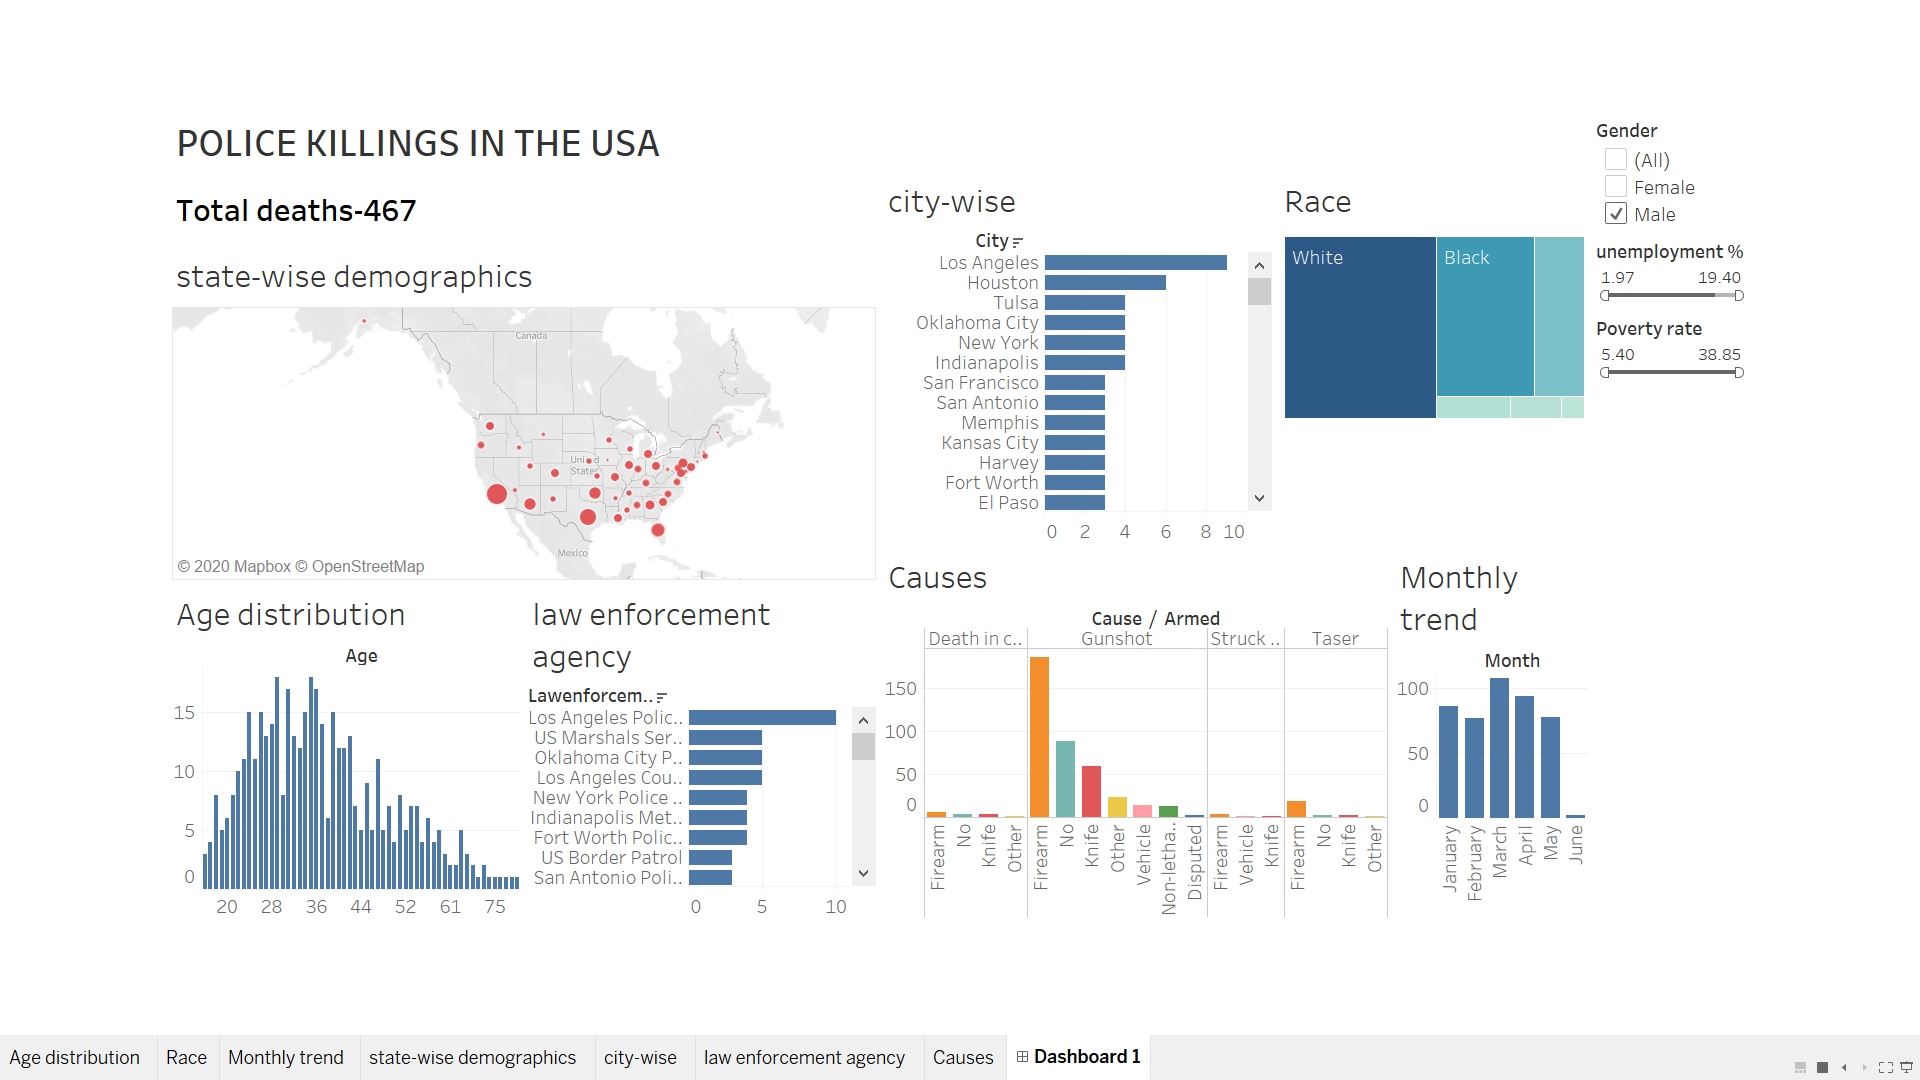

The dashboard page shown, as its layout file describes it:
{"tool":"tableau","page":{"name":"Dashboard 1","canvas":[1600,825],"ordinal":0},"visuals":[{"type":"worksheet","box":[0,0,1600,825]},{"type":"worksheet","param":"horz","box":[8,8,1584,809]},{"type":"worksheet","param":"vert","box":[8,8,1424,809]},{"type":"worksheet","box":[8,8,1424,58]},{"type":"worksheet","param":"vert","box":[1432,8,160,809]},{"type":"worksheet","title":"Age distribution","mark":"Automatic","rows":["police1.csv_8AB6018096FD485AA3396B35C24C2C2E"],"cols":["age"],"param":"[federated.0briuy808bmupc111lmp91lu067g].[none:gender:nk]","box":[1432,8,160,121]},{"type":"worksheet","box":[8,66,1424,751]},{"type":"worksheet","box":[8,66,712,75]},{"type":"worksheet","title":"city-wise ","mark":"Automatic","rows":["city"],"cols":["police1.csv_8AB6018096FD485AA3396B35C24C2C2E"],"box":[720,66,396,376]},{"type":"worksheet","title":"Race","mark":"Automatic","box":[1116,66,316,376]},{"type":"worksheet","title":"state-wise demographics","mark":"Automatic","rows":["latitude"],"cols":["longitude"],"param":"[federated.0briuy808bmupc111lmp91lu067g].[med:Calculation_787004053081583616:qk]","box":[1432,129,160,77]},{"type":"worksheet","title":"state-wise demographics","mark":"Automatic","rows":["latitude"],"cols":["longitude"],"box":[8,141,712,338]},{"type":"worksheet","title":"state-wise demographics","mark":"Automatic","rows":["latitude"],"cols":["longitude"],"param":"[federated.0briuy808bmupc111lmp91lu067g].[med:pov:qk]","box":[1432,206,160,77]},{"type":"worksheet","title":"Causes","mark":"Automatic","rows":["police1.csv_8AB6018096FD485AA3396B35C24C2C2E"],"cols":["cause","armed"],"box":[720,442,512,375]},{"type":"worksheet","title":"Monthly trend","mark":"Automatic","rows":["police1.csv_8AB6018096FD485AA3396B35C24C2C2E"],"cols":["month"],"box":[1232,442,200,375]},{"type":"worksheet","title":"Age distribution","mark":"Automatic","rows":["police1.csv_8AB6018096FD485AA3396B35C24C2C2E"],"cols":["age"],"box":[8,479,356,338]},{"type":"worksheet","title":"law enforcement agency","mark":"Automatic","rows":["lawenforcementagency"],"cols":["police1.csv_8AB6018096FD485AA3396B35C24C2C2E"],"box":[364,479,356,338]}]}

Visuals, with their boxes on the page's 1600x825 design canvas (x1, y1, x2, y2). These are canvas units, not pixel positions in the 1920x1080 screenshot, which may show the page scaled, cropped or inside an application window:
worksheet: {"left": 0, "top": 0, "right": 1600, "bottom": 825}
worksheet: {"left": 8, "top": 8, "right": 1592, "bottom": 817}
worksheet: {"left": 8, "top": 8, "right": 1432, "bottom": 817}
worksheet: {"left": 8, "top": 8, "right": 1432, "bottom": 66}
worksheet: {"left": 1432, "top": 8, "right": 1592, "bottom": 817}
"Age distribution" worksheet: {"left": 1432, "top": 8, "right": 1592, "bottom": 129}
worksheet: {"left": 8, "top": 66, "right": 1432, "bottom": 817}
worksheet: {"left": 8, "top": 66, "right": 720, "bottom": 141}
"city-wise " worksheet: {"left": 720, "top": 66, "right": 1116, "bottom": 442}
"Race" worksheet: {"left": 1116, "top": 66, "right": 1432, "bottom": 442}
"state-wise demographics" worksheet: {"left": 1432, "top": 129, "right": 1592, "bottom": 206}
"state-wise demographics" worksheet: {"left": 8, "top": 141, "right": 720, "bottom": 479}
"state-wise demographics" worksheet: {"left": 1432, "top": 206, "right": 1592, "bottom": 283}
"Causes" worksheet: {"left": 720, "top": 442, "right": 1232, "bottom": 817}
"Monthly trend" worksheet: {"left": 1232, "top": 442, "right": 1432, "bottom": 817}
"Age distribution" worksheet: {"left": 8, "top": 479, "right": 364, "bottom": 817}
"law enforcement agency" worksheet: {"left": 364, "top": 479, "right": 720, "bottom": 817}
